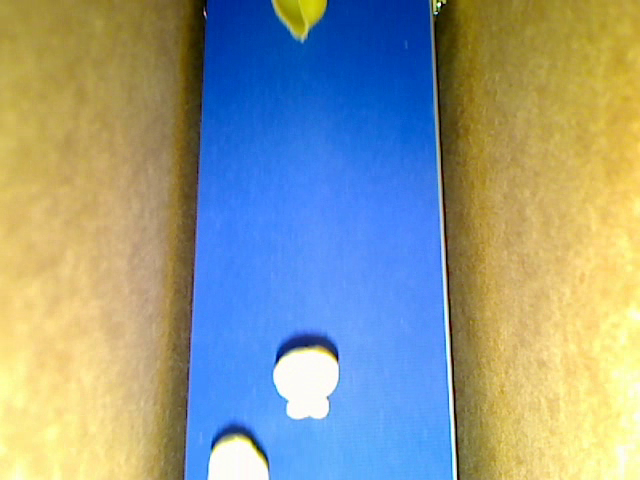shell: (270, 1, 327, 44)
